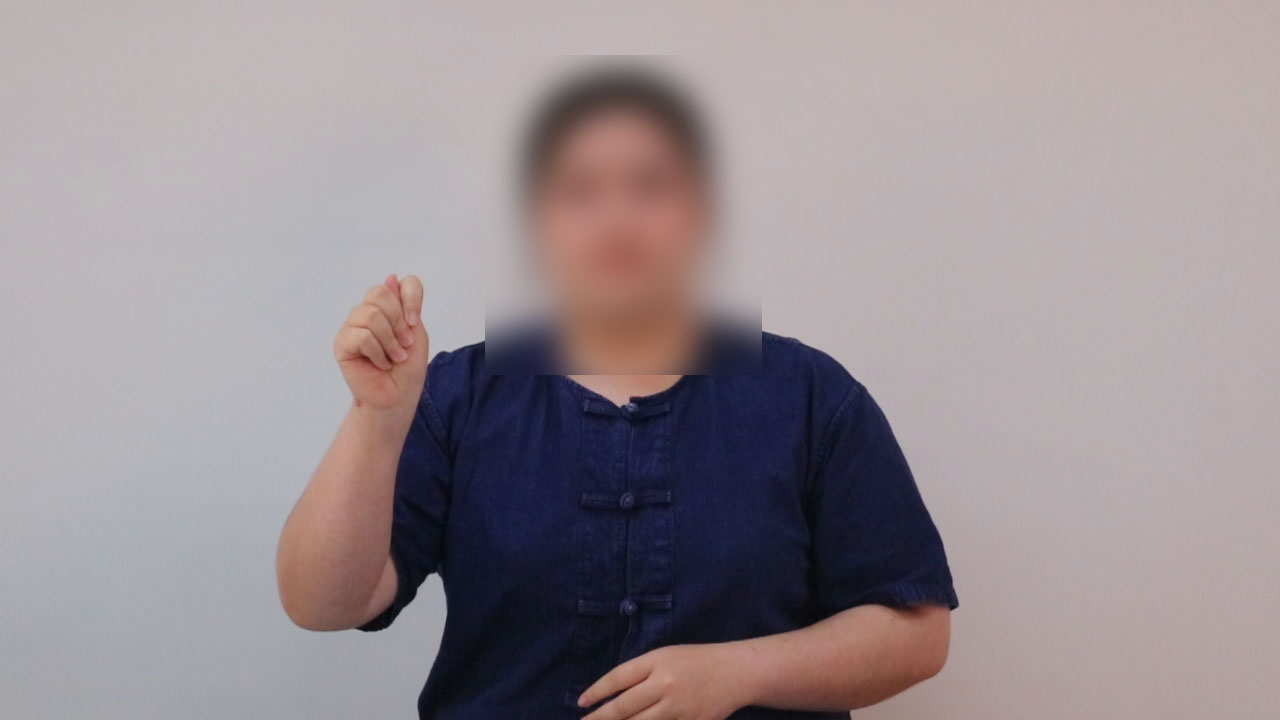tor: (311, 256, 464, 434)
